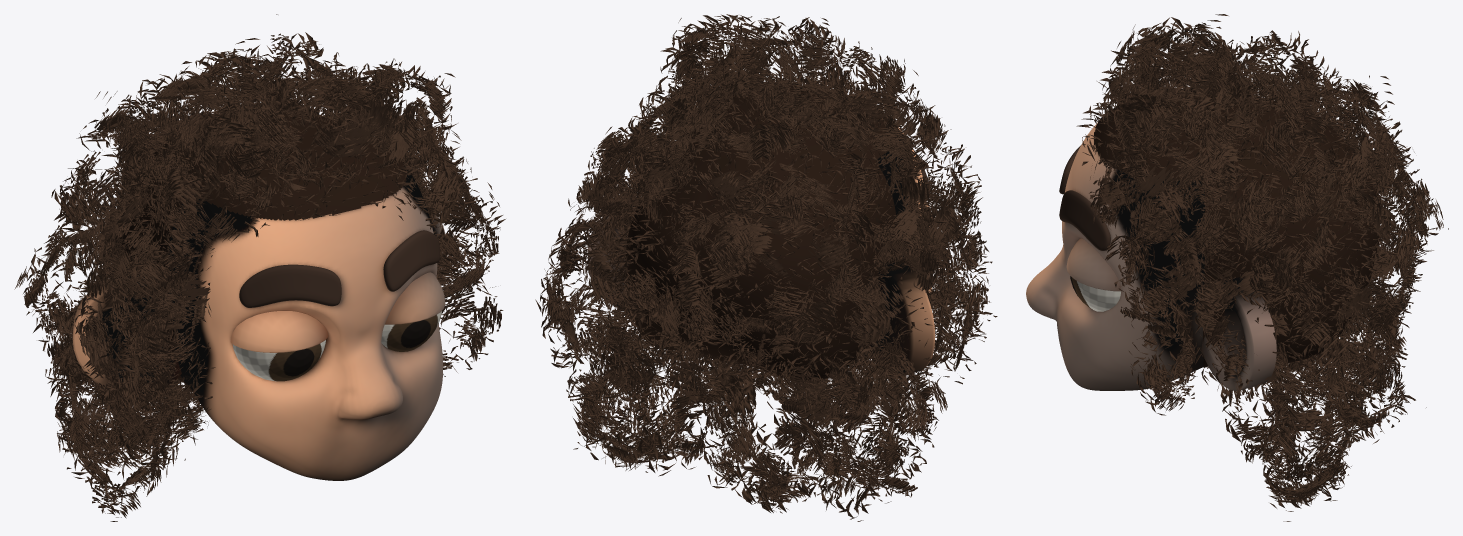
File: clement-tete-mobile.glb
3 renders of one model, left to right at view 1: azimuth 30°, elevation 25°; view 2: azimuth 150°, elevation 25°; view 3: azimuth 270°, elevation 25°, orthographic. The views are drawn at different scales.
Parts seen in each view (by area): view 1: Cheveux — fibres web, tete, Cheveux — boucles complementaires, Cuir chevelu interieur, sourcils, Paupiere, yeux, oreilles; view 2: Cheveux — fibres web, Cheveux — boucles complementaires, Cuir chevelu interieur, oreilles, tete; view 3: Cheveux — fibres web, Cheveux — boucles complementaires, Cuir chevelu interieur, tete, oreilles, sourcils, Paupiere, yeux.
Boxes of the visible parts, x1,y1,x2,y2 form: Cheveux — fibres web: (14,14,505,521); tete: (167,166,443,480); Cheveux — boucles complementaires: (23,32,503,513); Cuir chevelu interieur: (113,110,406,393); sourcils: (239,230,440,307); Paupiere: (230,272,445,352); yeux: (232,311,441,381); oreilles: (72,215,445,393); Cheveux — fibres web: (535,18,997,513); Cheveux — boucles complementaires: (540,14,992,521); Cuir chevelu interieur: (625,85,897,381); oreilles: (587,205,935,372); tete: (863,127,931,358); Cheveux — fibres web: (1090,14,1448,521); Cheveux — boucles complementaires: (1076,17,1438,508); Cuir chevelu interieur: (1094,90,1380,367); tete: (1026,122,1204,390); oreilles: (1201,277,1276,390); sourcils: (1059,145,1110,250); Paupiere: (1066,238,1120,291); yeux: (1070,276,1120,311).
Bounding box in the file's own units: 2.44 × 2.71 × 2.39.
